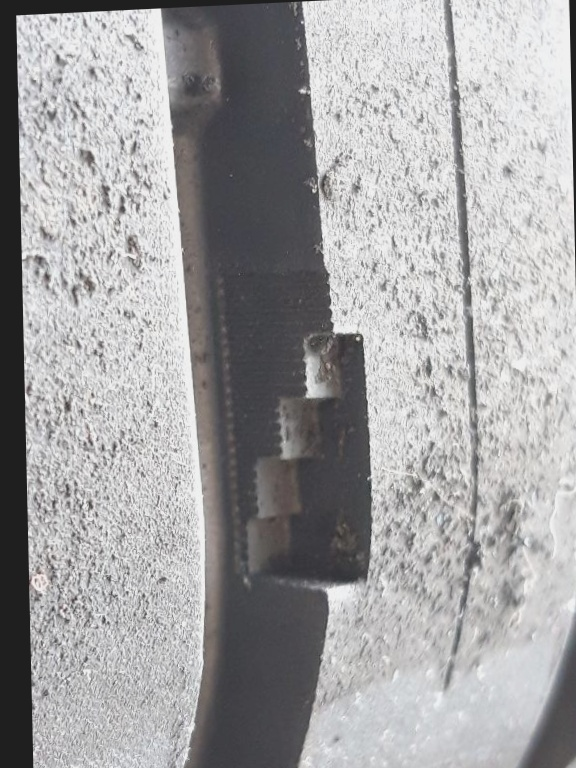temoin:95: (204, 256, 395, 614)
